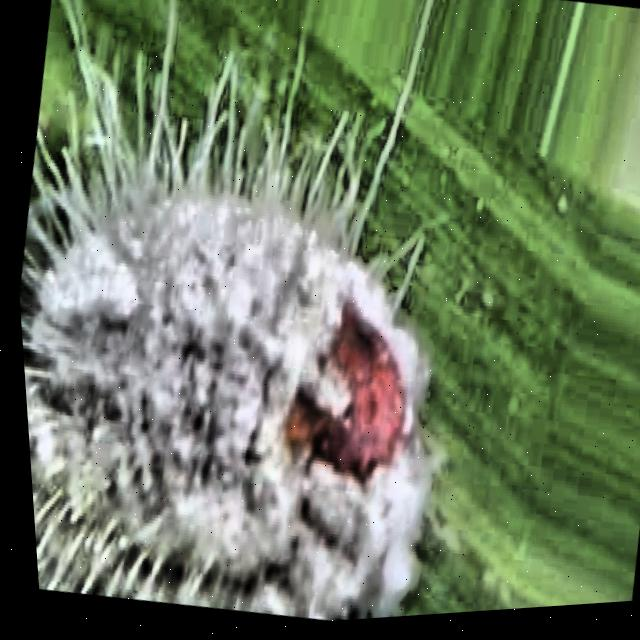Mealy-bug: (0, 0, 615, 640)
